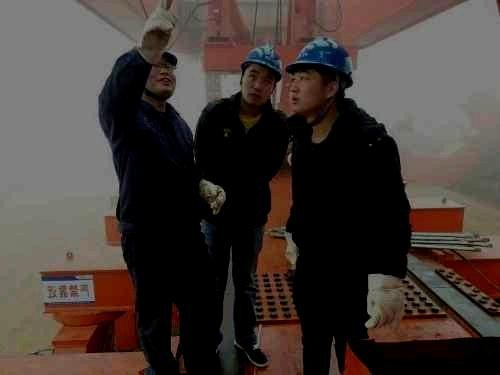helmet: (284, 38, 354, 113), (239, 46, 284, 105), (146, 51, 179, 98)
